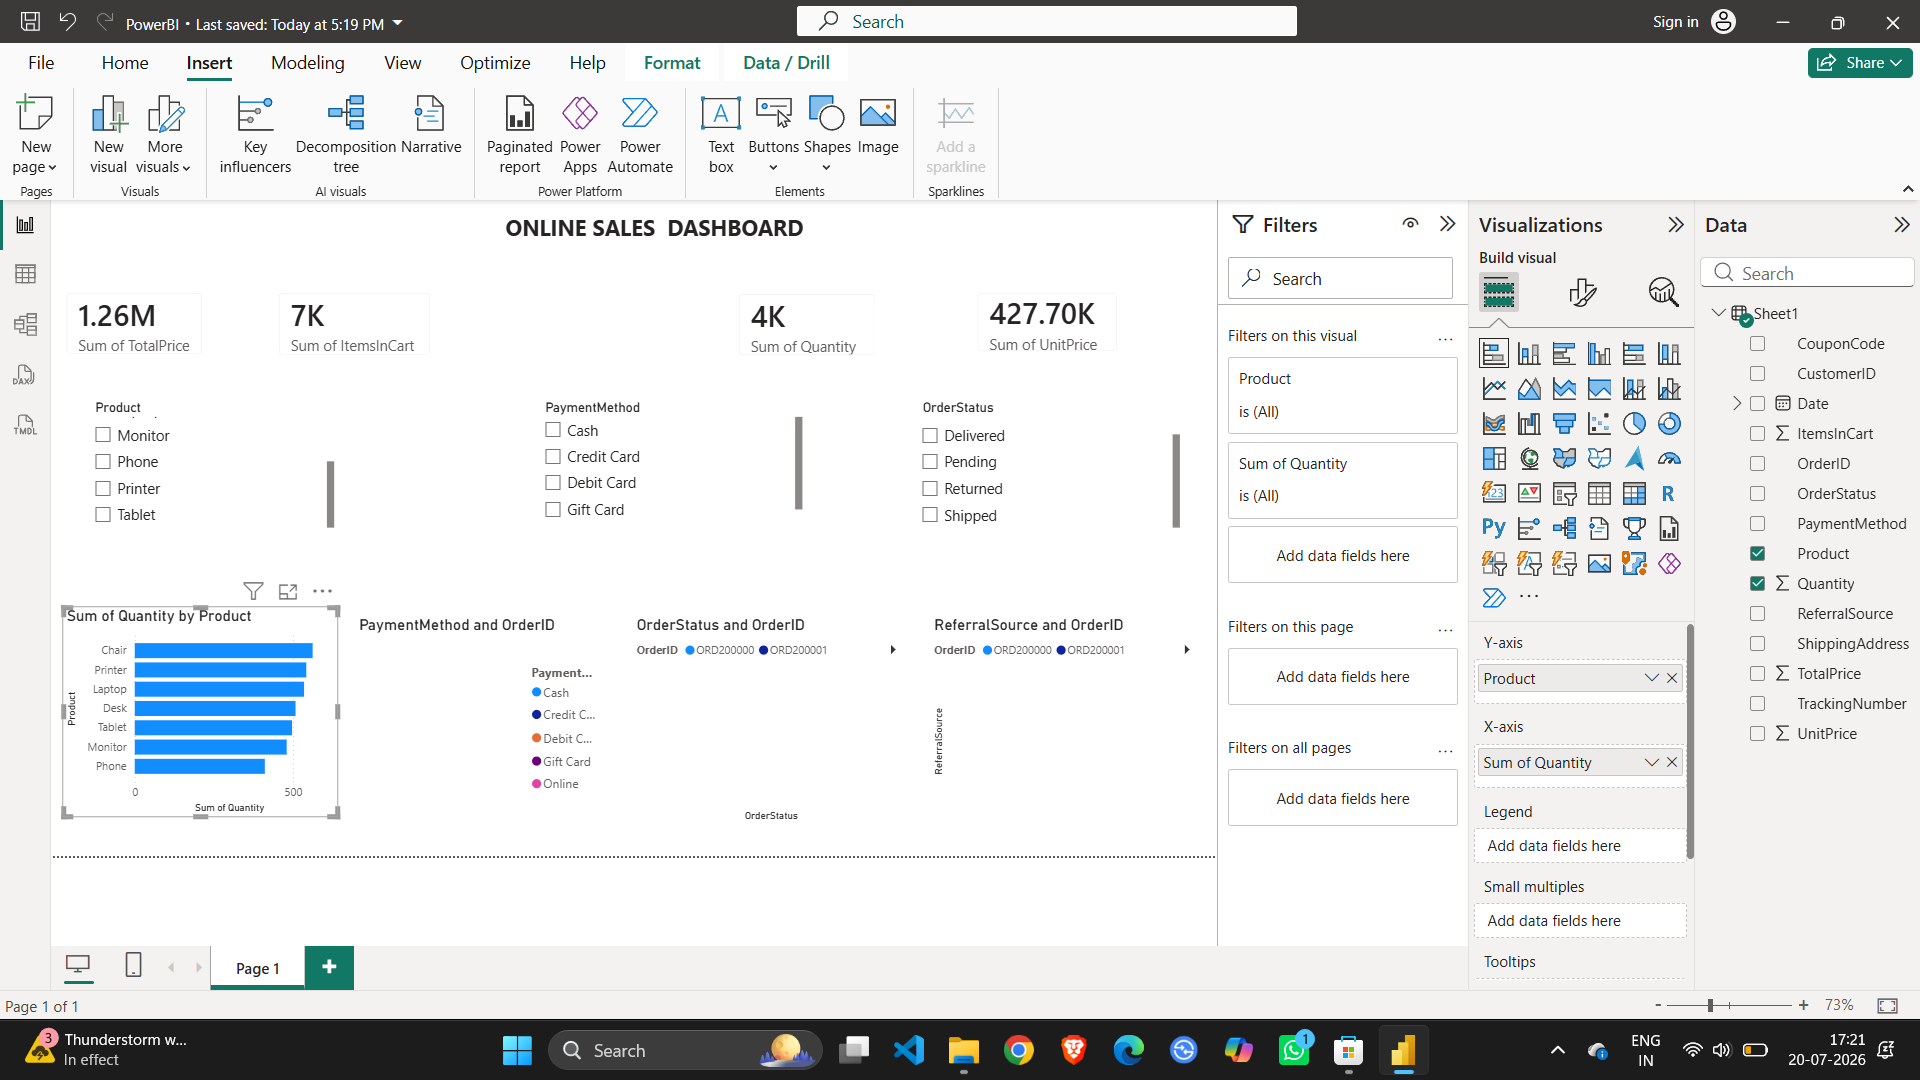

The page's visual inventory and layout, read from the dashboard file:
{"tool":"powerbi","page":{"name":"Page 1","canvas":[1280,720],"ordinal":0},"visuals":[{"type":"cardVisual","fields":{"Data":["Sum(Sheet1.TotalPrice)"]},"box":[0,85.1,183.9,101.5],"z":0},{"type":"cardVisual","fields":{"Data":["Sum(Sheet1.Quantity)"]},"box":[738.3,86.4,183.9,101.5],"z":1000},{"type":"cardVisual","fields":{"Data":["Sum(Sheet1.ItemsInCart)"]},"box":[233.3,85.1,200.3,102.9],"z":2000},{"type":"cardVisual","fields":{"Data":["Sum(Sheet1.UnitPrice)"]},"box":[1000.3,85.1,188,98.8],"z":3000},{"type":"barChart","fields":{"Category":["Sheet1.Product"],"Y":["Sum(Sheet1.Quantity)"]},"box":[12.3,446,303.3,231.9],"z":4000},{"type":"pieChart","fields":{"Category":["Sheet1.PaymentMethod"],"Series":["Sheet1.OrderID"]},"box":[333.4,455.6,279.9,231.9],"z":5000},{"type":"columnChart","fields":{"Category":["Sheet1.OrderStatus"],"Series":["Sheet1.OrderID"]},"box":[638.1,455.6,306,231.9],"z":6000},{"type":"clusteredBarChart","fields":{"Category":["Sheet1.ReferralSource"],"Series":["Sheet1.OrderID"]},"box":[964.7,455.6,301.9,222.3],"z":7000},{"type":"slicer","fields":{"Values":["Sheet1.Product"]},"box":[35.7,214.1,279.9,150.9],"z":7001},{"type":"slicer","fields":{"Values":["Sheet1.PaymentMethod"]},"box":[529.7,214.1,300.5,150.9],"z":7002},{"type":"slicer","fields":{"Values":["Sheet1.OrderStatus"]},"box":[944.1,214.1,300.5,150.9],"z":7003},{"type":"textbox","box":[494,9.6,378.7,49.4],"z":7004}]}

Visuals, with their boxes on the page's 1280x720 design canvas (x1, y1, x2, y2). These are canvas units, not pixel positions in the 1920x1080 screenshot, which may show the page scaled, cropped or inside an application window:
cardVisual - Sum(Sheet1.TotalPrice): [0, 85, 184, 187]
cardVisual - Sum(Sheet1.Quantity): [738, 86, 922, 188]
cardVisual - Sum(Sheet1.ItemsInCart): [233, 85, 434, 188]
cardVisual - Sum(Sheet1.UnitPrice): [1000, 85, 1188, 184]
barChart - Sheet1.Product x Sum(Sheet1.Quantity): [12, 446, 316, 678]
pieChart - Sheet1.PaymentMethod x Sheet1.OrderID: [333, 456, 613, 688]
columnChart - Sheet1.OrderStatus x Sheet1.OrderID: [638, 456, 944, 688]
clusteredBarChart - Sheet1.ReferralSource x Sheet1.OrderID: [965, 456, 1267, 678]
slicer - Sheet1.Product: [36, 214, 316, 365]
slicer - Sheet1.PaymentMethod: [530, 214, 830, 365]
slicer - Sheet1.OrderStatus: [944, 214, 1245, 365]
textbox: [494, 10, 873, 59]
